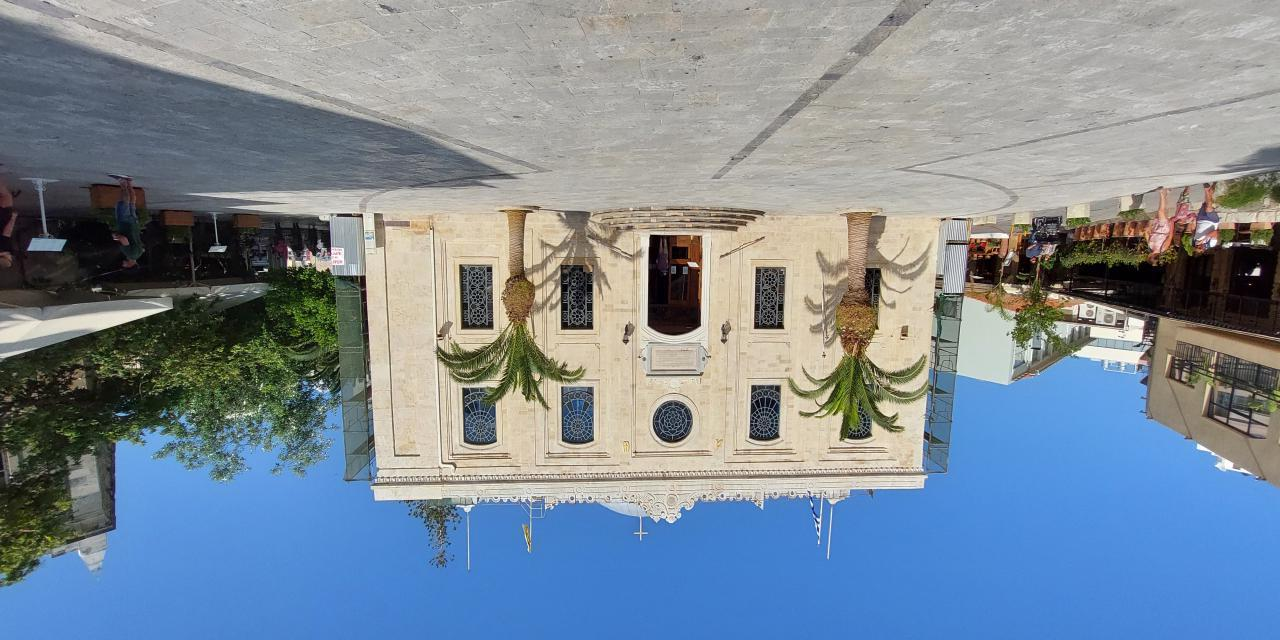Agios Titos: (359, 198, 936, 530)
